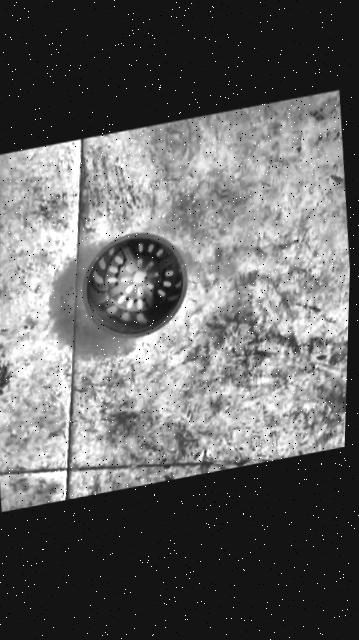pot: (75, 223, 192, 349)
